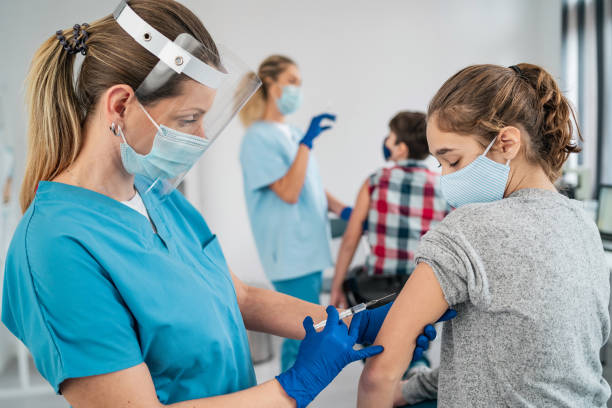with mask: (91, 26, 233, 196), (409, 78, 533, 213), (239, 31, 313, 126), (373, 104, 426, 178)
